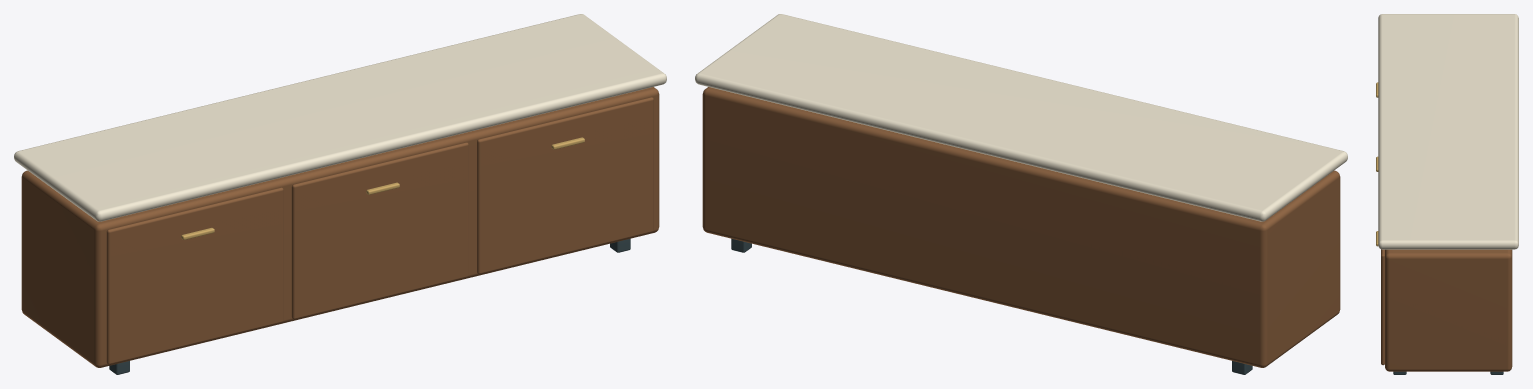
The model's file is HotelTogether-BuffetCounter.glb.
3 renders of one model, left to right at view 1: azimuth 30°, elevation 25°; view 2: azimuth 150°, elevation 25°; view 3: azimuth 270°, elevation 25°, orthographic. The views are drawn at different scales.
Visible parts, largest first — view 1: Buffet_Top, Buffet_FrontPanel, Buffet_FrontPanel.001, Buffet_FrontPanel.002, Buffet_Cabinet; view 2: Buffet_Cabinet, Buffet_Top; view 3: Buffet_Top, Buffet_Cabinet, Buffet_FrontPanel.002.
Boxes of the visible parts, left/top/right/bottom form: Buffet_Top: left=14, top=14, right=666, bottom=221; Buffet_FrontPanel: left=106, top=187, right=283, bottom=364; Buffet_FrontPanel.001: left=291, top=142, right=468, bottom=319; Buffet_FrontPanel.002: left=477, top=97, right=653, bottom=274; Buffet_Cabinet: left=21, top=87, right=659, bottom=367; Buffet_Cabinet: left=702, top=87, right=1340, bottom=367; Buffet_Top: left=695, top=14, right=1347, bottom=221; Buffet_Top: left=1378, top=14, right=1518, bottom=249; Buffet_Cabinet: left=1385, top=249, right=1512, bottom=371; Buffet_FrontPanel.002: left=1381, top=249, right=1384, bottom=365.
Bounding box in the file's own units: 3.24 × 0.955 × 0.8525.
